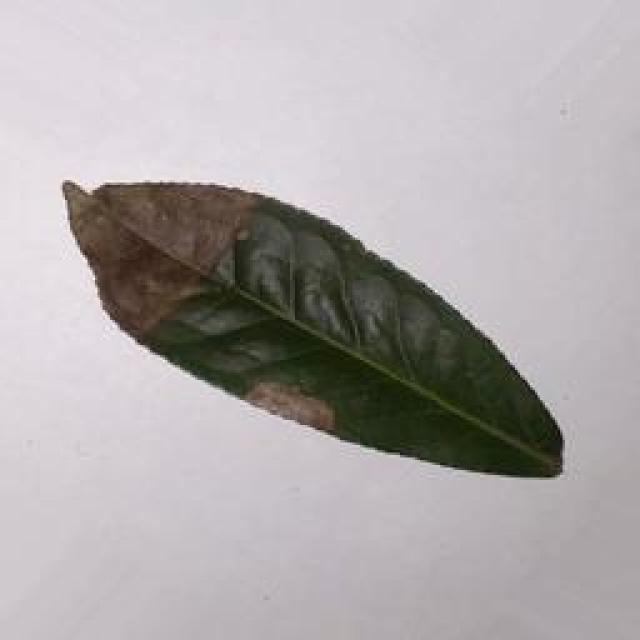Brown Blight: (61, 152, 572, 502)
